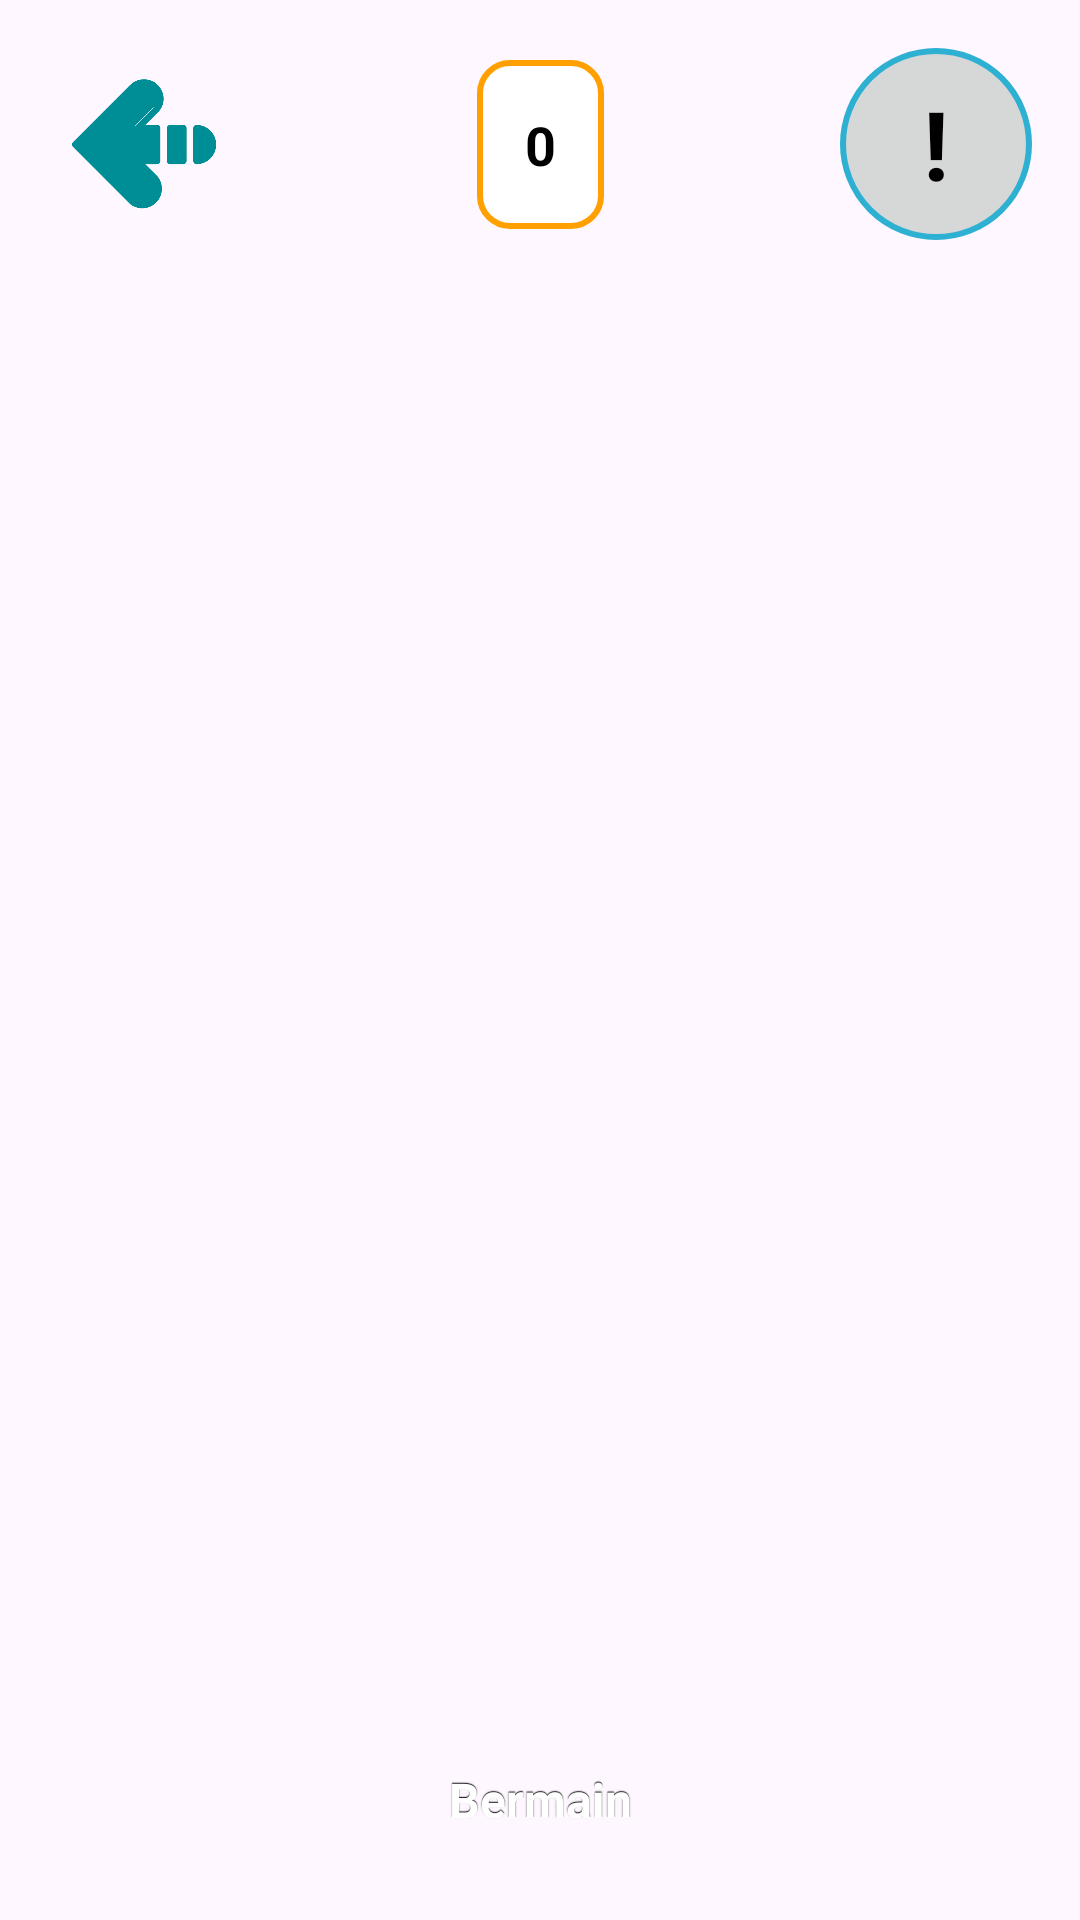

Locate icon controls on the screen. Image size 1080 × 1920, boxes as (x1, y1, x2, y2).
Backward: (72, 79, 216, 209)
